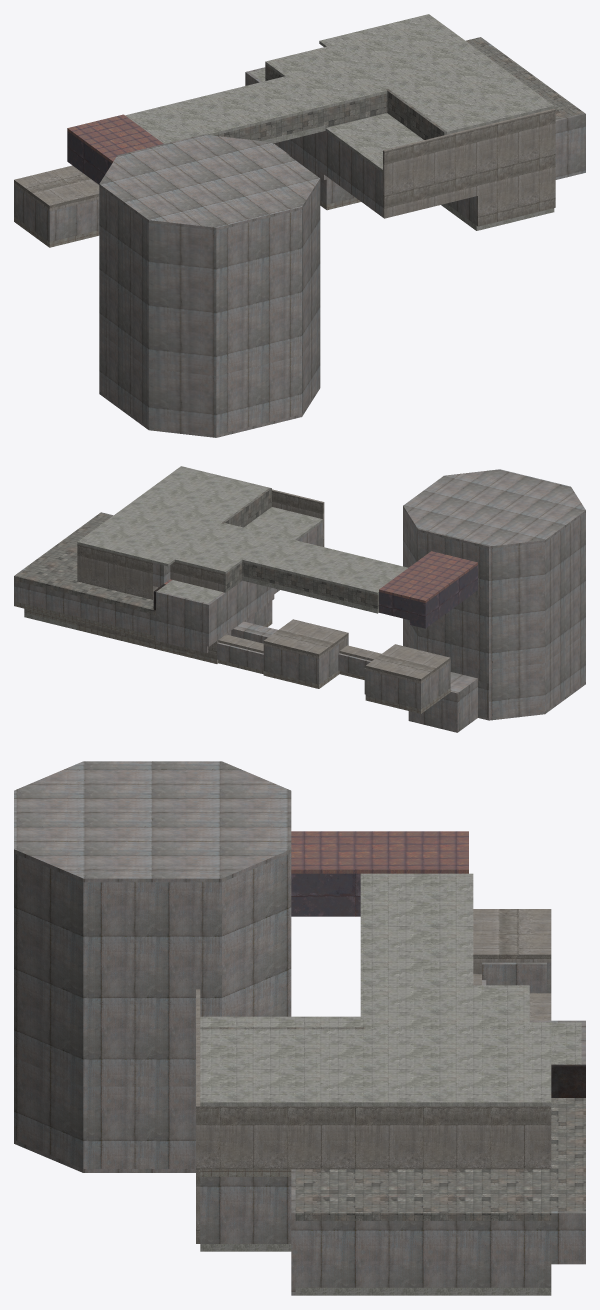
3 renders of one model, top to bottom at view 1: azimuth 30°, elevation 25°; view 2: azimuth 150°, elevation 25°; view 3: azimuth 270°, elevation 25°, orthographic. The views are drawn at different scales.
Visible parts, largest first — view 1: entity0_brush144, entity0_brush146, entity0_brush147, entity0_brush148, entity0_brush95, entity0_brush9, entity0_brush143, entity0_brush98, entity0_brush172, entity0_brush51, entity0_brush171, entity0_brush142 (+21 smaller); view 2: entity0_brush144, entity0_brush149, entity0_brush95, entity0_brush148, entity0_brush9, entity0_brush98, entity0_brush153, entity0_brush131, entity0_brush97, entity0_brush169, entity0_brush142, entity0_brush25 (+41 smaller); view 3: entity0_brush144, entity0_brush150, entity0_brush96, entity0_brush95, entity0_brush152, entity0_brush125, entity0_brush9, entity0_brush98, entity0_brush123, entity0_brush151, entity0_brush174, entity0_brush25 (+17 smaller).
Boxes of the visible parts, x1=… form: entity0_brush144: x1=99, y1=134, x2=320, y2=230; entity0_brush146: x1=216, y1=209, x2=301, y2=376; entity0_brush147: x1=148, y1=223, x2=216, y2=376; entity0_brush148: x1=99, y1=187, x2=148, y2=368; entity0_brush95: x1=319, y1=14, x2=494, y2=89; entity0_brush9: x1=125, y1=76, x2=325, y2=143; entity0_brush143: x1=383, y1=127, x2=477, y2=218; entity0_brush98: x1=388, y1=62, x2=554, y2=134; entity0_brush172: x1=216, y1=355, x2=301, y2=434; entity0_brush51: x1=476, y1=154, x2=555, y2=226; entity0_brush171: x1=148, y1=368, x2=216, y2=434; entity0_brush142: x1=265, y1=46, x2=387, y2=108; entity0_brush144: x1=403, y1=469, x2=585, y2=548; entity0_brush149: x1=489, y1=542, x2=544, y2=669; entity0_brush95: x1=77, y1=501, x2=222, y2=566; entity0_brush148: x1=545, y1=513, x2=585, y2=662; entity0_brush9: x1=242, y1=535, x2=408, y2=594; entity0_brush98: x1=133, y1=466, x2=269, y2=523; entity0_brush153: x1=418, y1=593, x2=488, y2=669; entity0_brush131: x1=16, y1=581, x2=155, y2=635; entity0_brush97: x1=79, y1=545, x2=153, y2=599; entity0_brush169: x1=489, y1=663, x2=544, y2=718; entity0_brush142: x1=174, y1=523, x2=275, y2=574; entity0_brush25: x1=379, y1=551, x2=477, y2=602; entity0_brush144: x1=14, y1=761, x2=291, y2=882; entity0_brush150: x1=83, y1=882, x2=221, y2=1086; entity0_brush96: x1=295, y1=1106, x2=551, y2=1169; entity0_brush95: x1=365, y1=1027, x2=551, y2=1106; entity0_brush152: x1=14, y1=853, x2=83, y2=1086; entity0_brush125: x1=295, y1=1169, x2=551, y2=1220; entity0_brush9: x1=360, y1=873, x2=473, y2=985; entity0_brush98: x1=200, y1=1029, x2=364, y2=1106; entity0_brush123: x1=360, y1=1221, x2=551, y2=1287; entity0_brush151: x1=222, y1=853, x2=291, y2=1016; entity0_brush174: x1=83, y1=1086, x2=195, y2=1168; entity0_brush25: x1=291, y1=831, x2=468, y2=873.
Size of the model in its own units: 3056 by 1200 by 2112.
10 materials, 10 textured.
